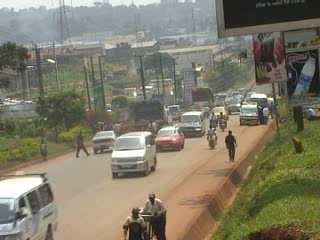Car: (88, 126, 121, 153), (154, 123, 185, 151), (227, 97, 245, 117), (208, 104, 229, 120)
Motorcycle: (205, 127, 219, 150), (147, 120, 161, 138), (111, 120, 123, 138), (218, 114, 228, 134), (208, 112, 218, 128)
